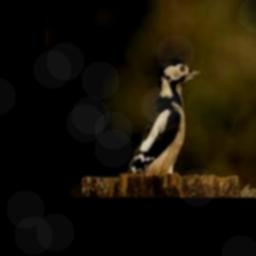Woodpecker: (127, 59, 202, 174)
